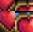heart: (0, 11, 15, 32), (15, 0, 33, 11), (0, 0, 15, 11)
